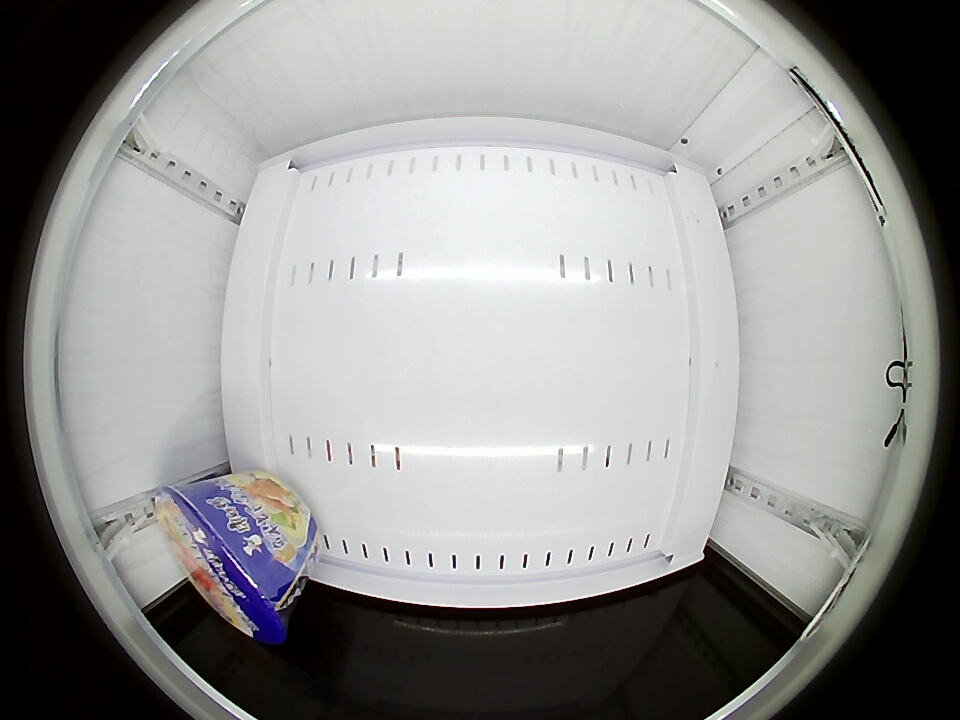xianxiayuban: (155, 483, 298, 645)
